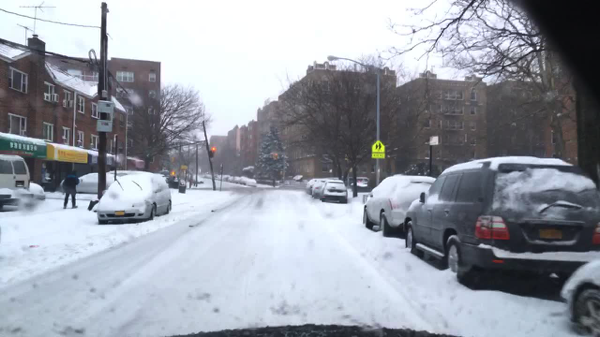car: (403, 156, 598, 289), (361, 175, 436, 238), (95, 171, 171, 225), (558, 255, 598, 337), (0, 154, 31, 209), (60, 171, 118, 194), (319, 180, 348, 203), (311, 178, 338, 198), (304, 178, 325, 196), (30, 180, 45, 205), (350, 177, 369, 192), (108, 171, 140, 178), (235, 176, 248, 184), (244, 179, 257, 187), (227, 176, 238, 183), (220, 175, 230, 182), (216, 174, 222, 181)
person: (62, 170, 80, 210)
traffic light: (210, 147, 214, 158)
traffic sign: (371, 140, 386, 159), (429, 137, 439, 145)
